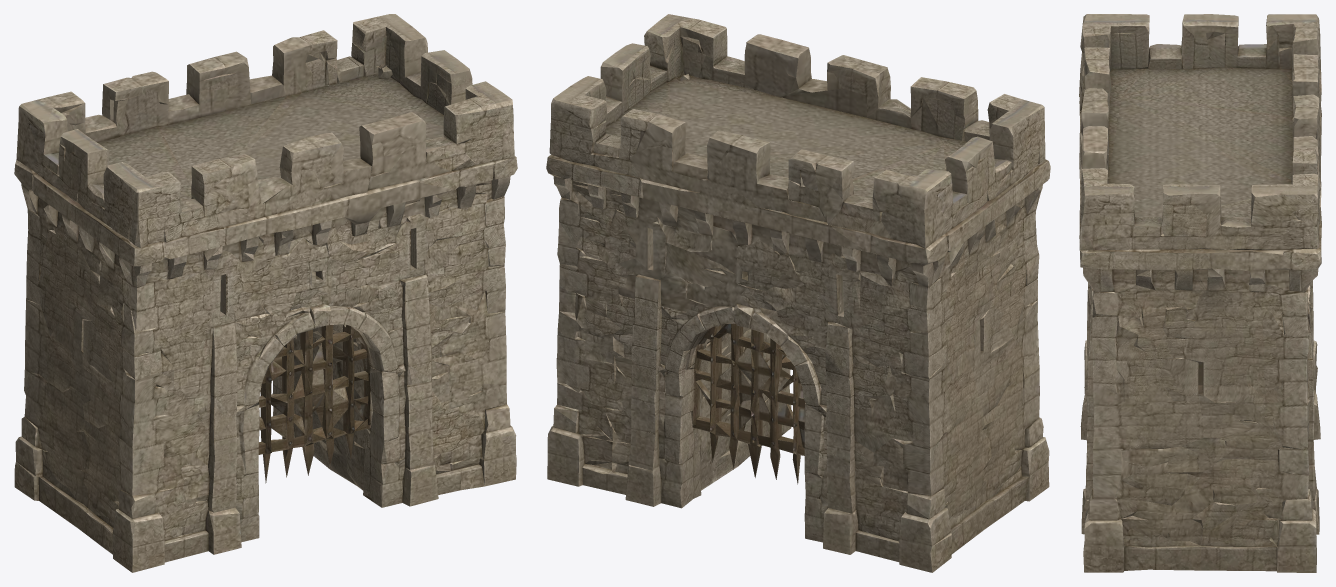
Rendered from gatehouse.glb.
3 views of the same model, side by side, from view 1: azimuth 30°, elevation 25°; view 2: azimuth 150°, elevation 25°; view 3: azimuth 270°, elevation 25° (orthographic).
Visible parts, largest first — view 1: gatehouse; view 2: gatehouse; view 3: gatehouse.
Boxes of the visible parts, x1,y1,x2,y2 form: gatehouse: (14, 14, 517, 572); gatehouse: (546, 14, 1050, 572); gatehouse: (1079, 14, 1321, 572).
Bounding box in the file's own units: 12.68 × 12 × 7.01.
Materials: 1 (1 with a texture image).
